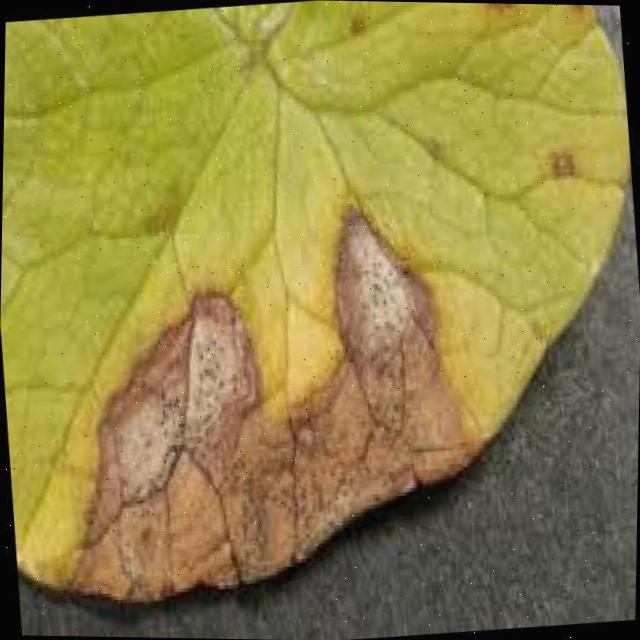Septoria_Blight: (49, 207, 471, 589)
